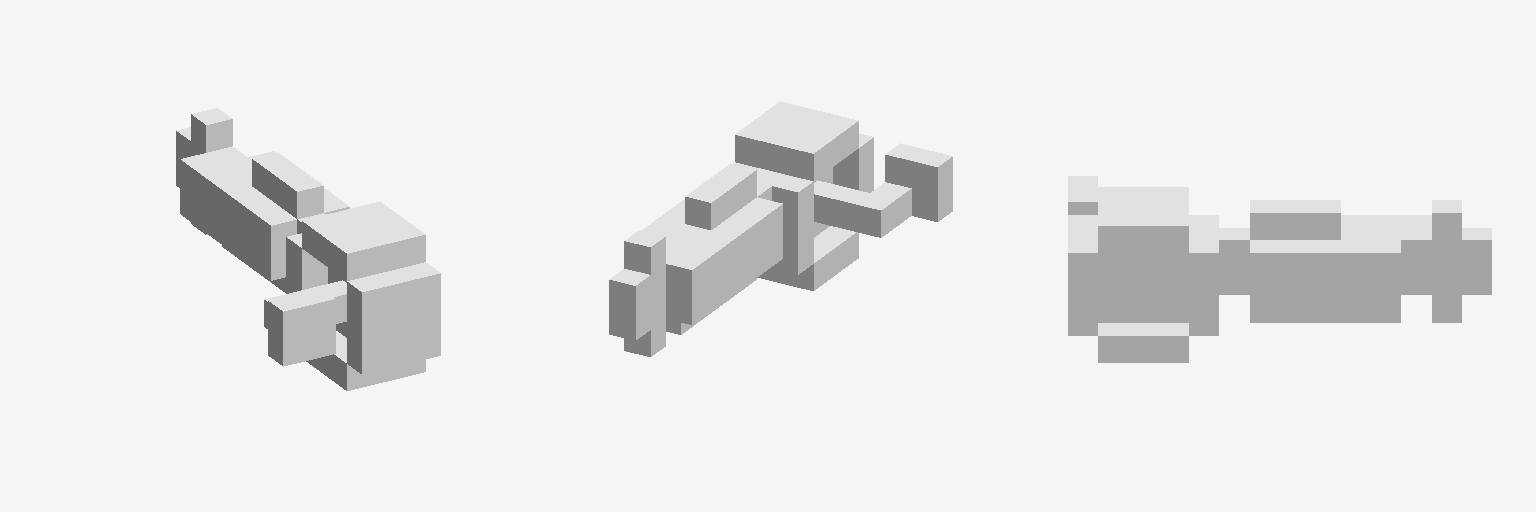
File: Leg-68.obj
3 views of the same model, side by side, from view 1: azimuth 30°, elevation 25°; view 2: azimuth 150°, elevation 25°; view 3: azimuth 270°, elevation 25° (orthographic).
Parts seen in each view (by area): view 1: object 1; view 2: object 1; view 3: object 1.
Part boxes in pixels (x1,y1,x2,y2): object 1: (176,108,440,390); object 1: (609,101,952,356); object 1: (1068,176,1491,362).
Bounding box in the file's own units: 0.6 × 0.5 × 1.4.